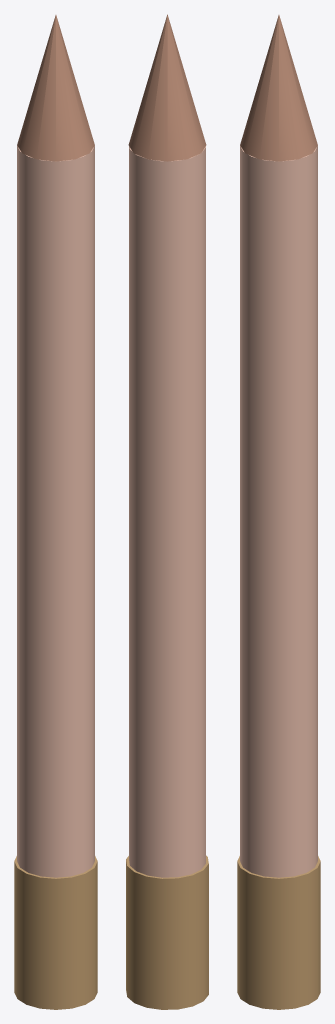
File: TRD-01-01.glb
3 views of the same model, side by side, from view 1: azimuth 90°, elevation 25°; view 2: azimuth 150°, elevation 25°; view 3: azimuth 270°, elevation 25° (orthographic).
Visible parts, largest first — view 1: TRD-01-01; view 2: TRD-01-01; view 3: TRD-01-01.
Part boxes in pixels (<box>): TRD-01-01: <box>14,15,97,1009</box>; TRD-01-01: <box>126,14,208,1009</box>; TRD-01-01: <box>237,15,320,1009</box>.
Size of the model in its own units: 0.075 by 0.97 by 0.075.
